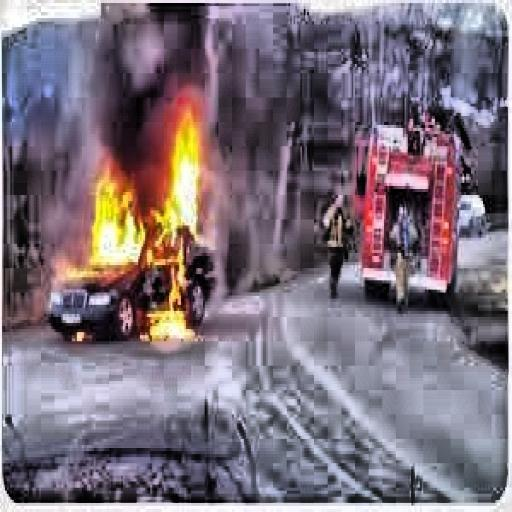fire: (94, 98, 215, 342)
